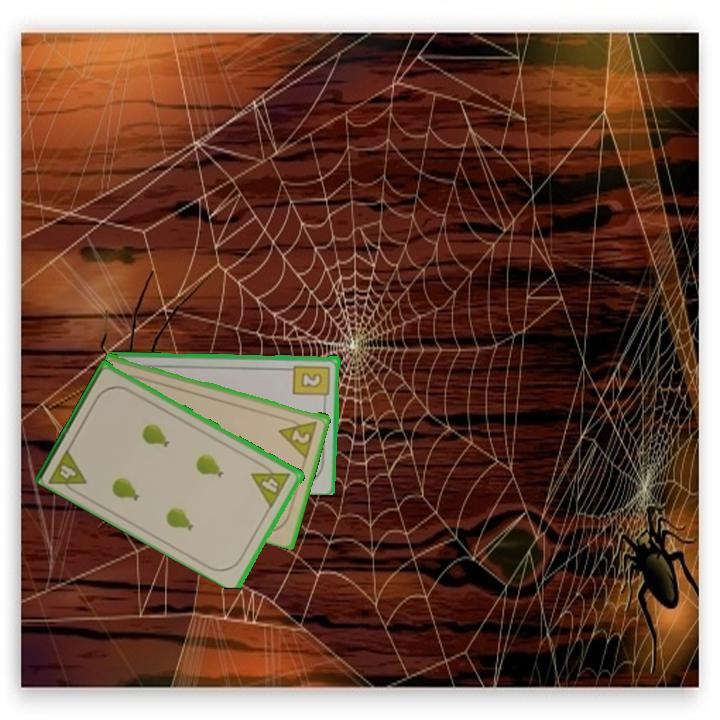2b: (291, 362, 333, 404)
2p: (276, 415, 320, 460)
4p: (45, 444, 90, 498), (248, 458, 293, 510)
